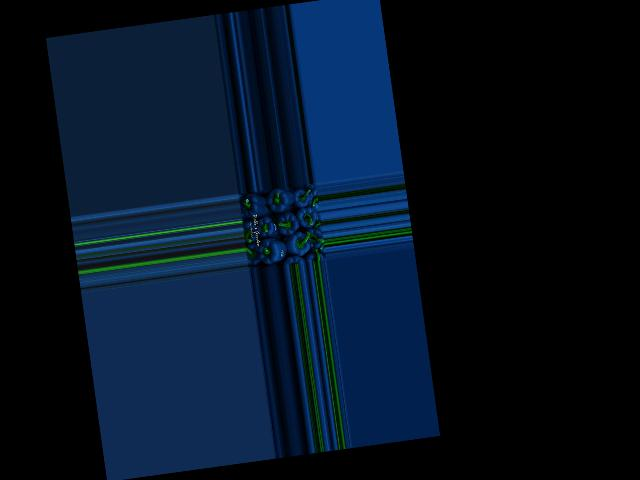bell_pepper: (244, 240, 264, 268)
